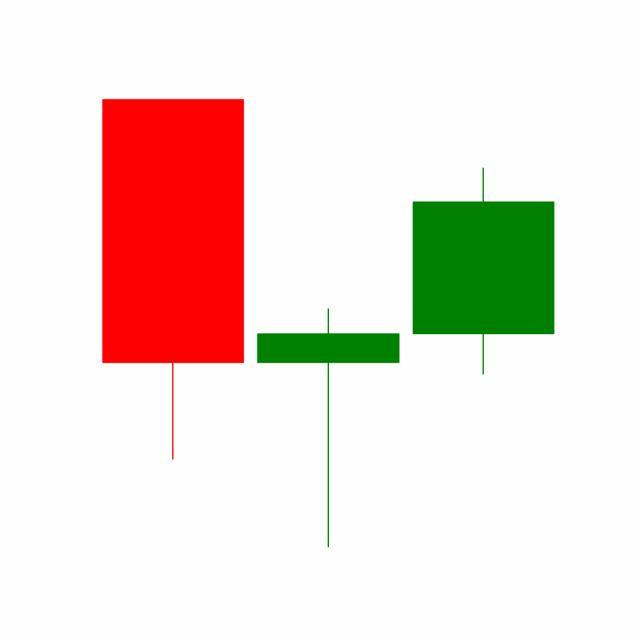Dragonfly Doji: (250, 307, 407, 551)
